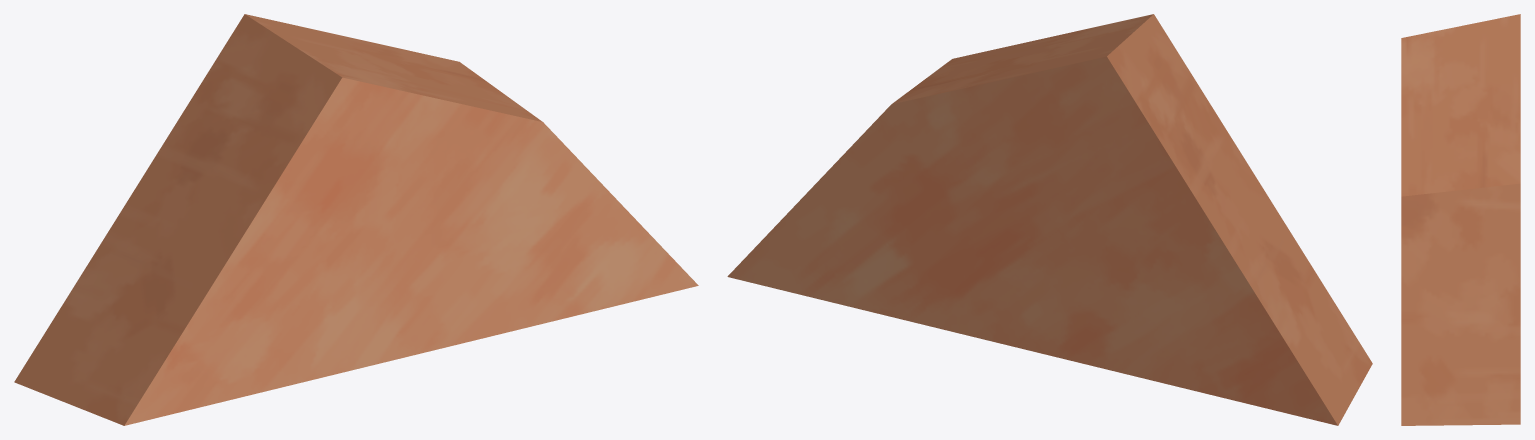
Rendered from wall_upper_window_s11.fbx.
The picture shows the model from 3 angles, left to right: view 1: azimuth 30°, elevation 25°; view 2: azimuth 150°, elevation 25°; view 3: azimuth 270°, elevation 25°; orthographic projection. The views are drawn at different scales.
Parts seen in each view (by area): view 1: wall_upper_window_s11; view 2: wall_upper_window_s11; view 3: wall_upper_window_s11.
Boxes of the visible parts, x1,y1,x2,y2 form: wall_upper_window_s11: (14, 14, 698, 425); wall_upper_window_s11: (727, 14, 1372, 425); wall_upper_window_s11: (1401, 14, 1520, 425).
Size of the model in its own units: 4.89 by 2.38 by 1.
